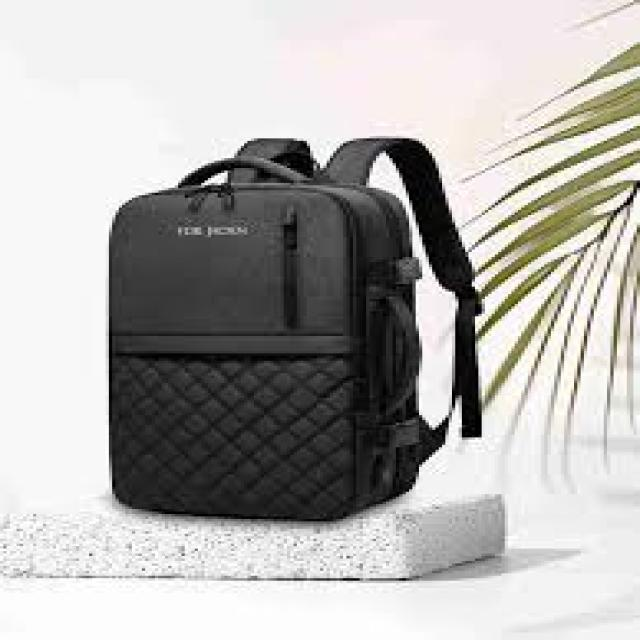backpack: (107, 134, 486, 520)
